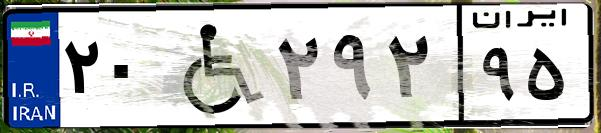0: (110, 28, 158, 98)
2: (270, 28, 330, 110), (385, 28, 445, 110), (57, 26, 110, 100)
5: (525, 38, 570, 115)
9: (330, 28, 385, 110), (475, 38, 525, 113)
ژ (معلولین و جانبازان): (158, 12, 270, 120)
